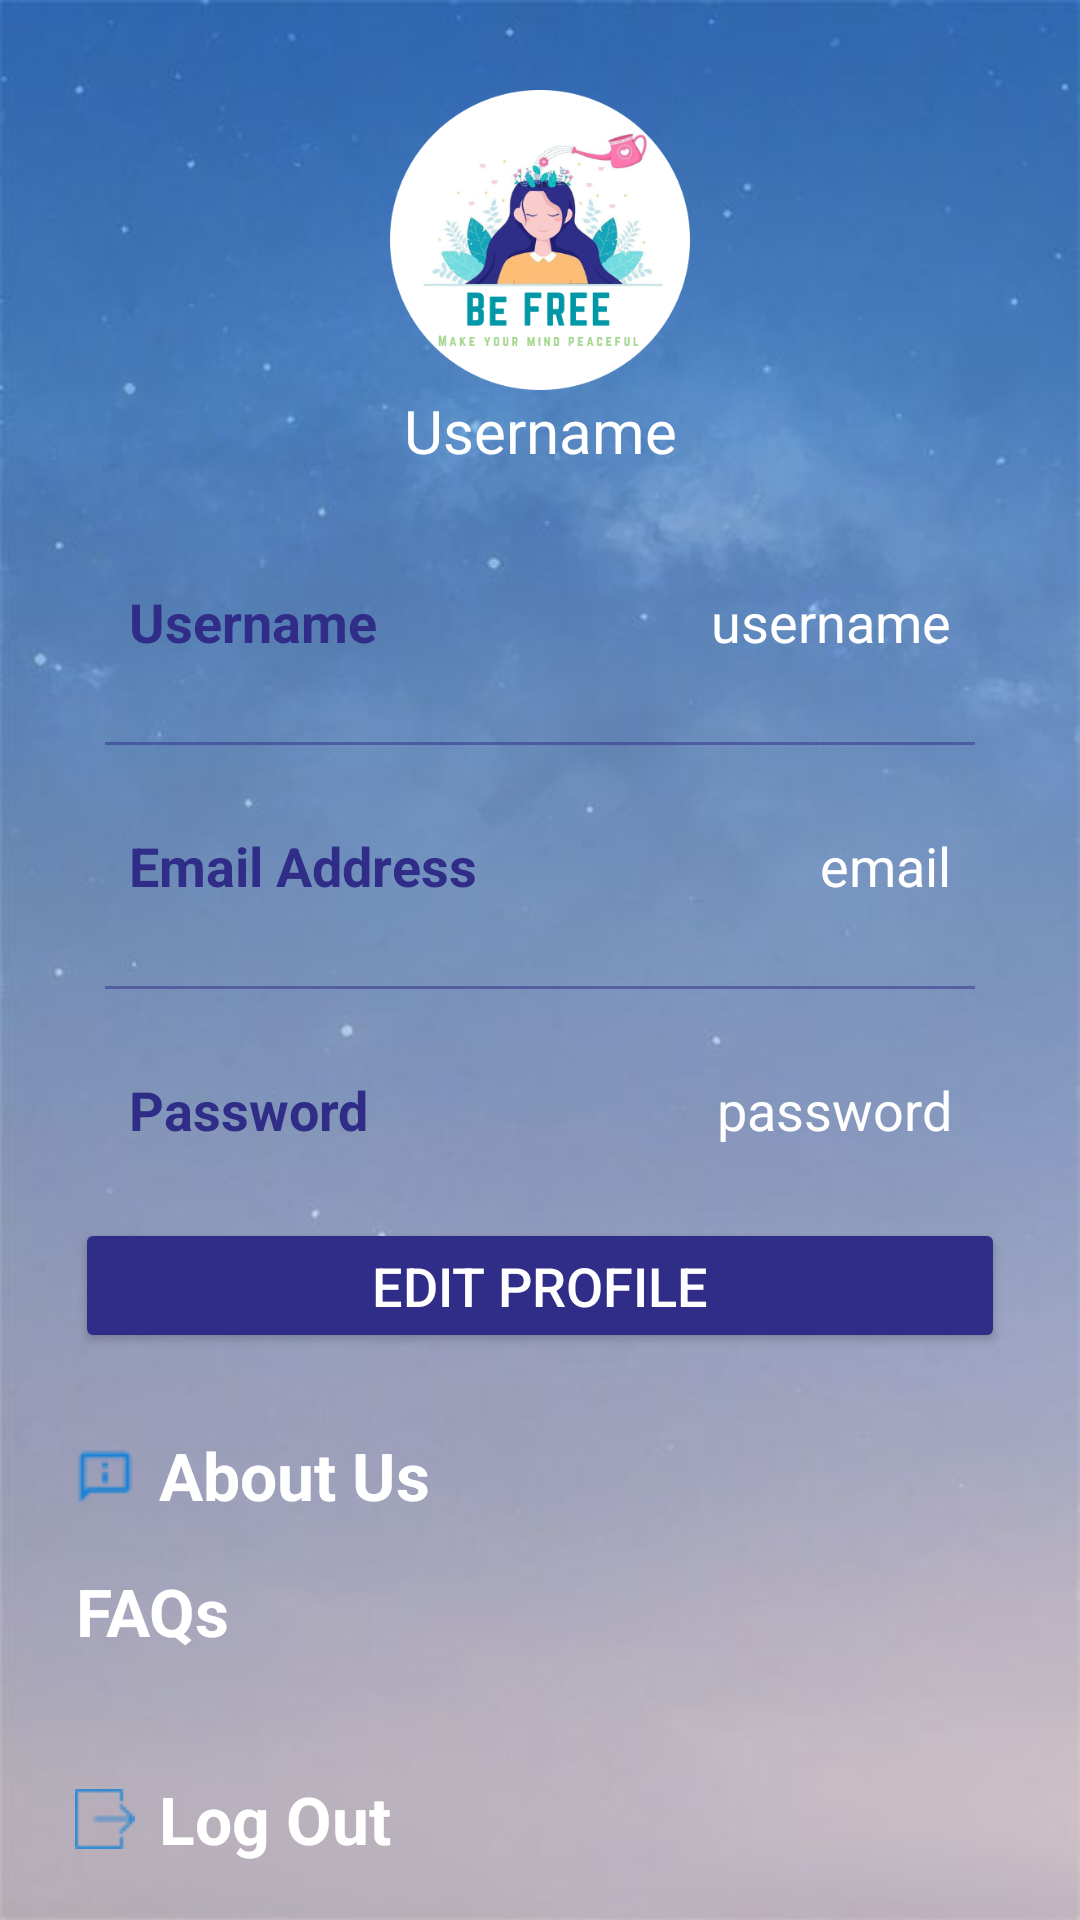

Where to tap for icons on this 1080x1920 app screen, as (x=x, y=y):
app: (x=540, y=240)
